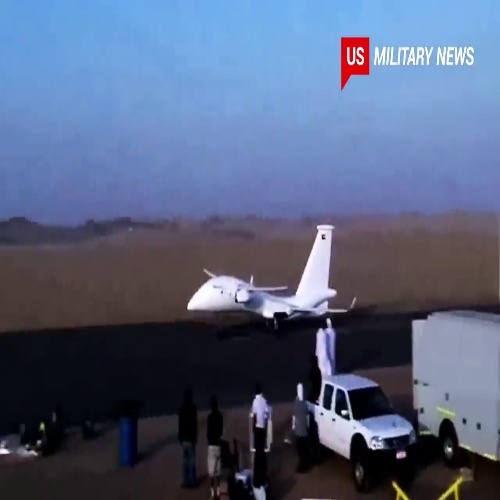uav25: (184, 225, 356, 325)
